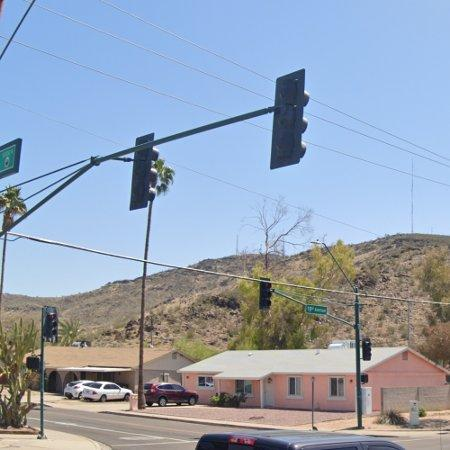traffic lights: (268, 68, 312, 172), (128, 132, 161, 209), (41, 304, 58, 339), (258, 277, 274, 307), (360, 335, 373, 361)
